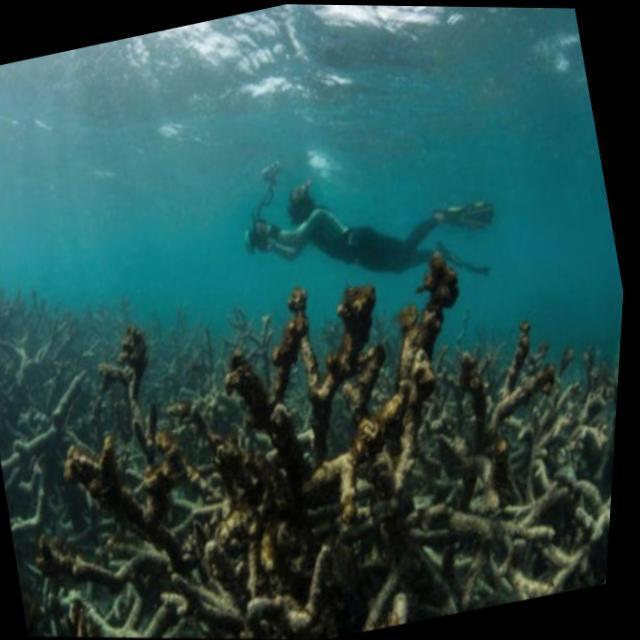Dead Coral: (0, 265, 633, 640)
